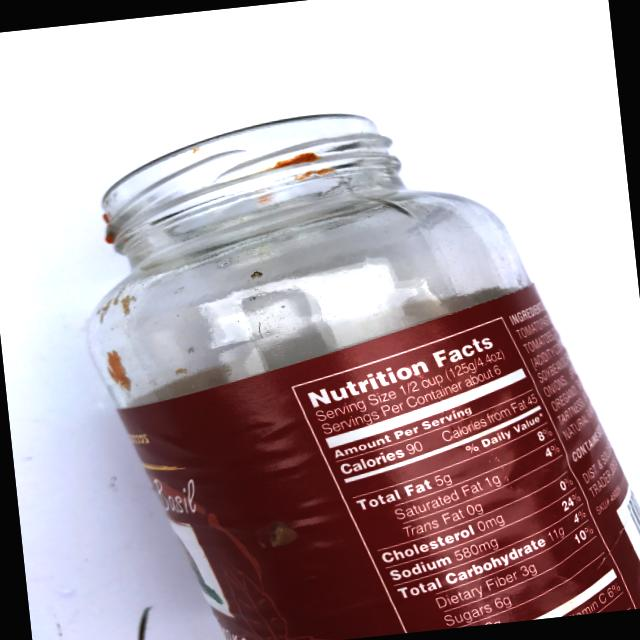Glass: (46, 64, 640, 640)
